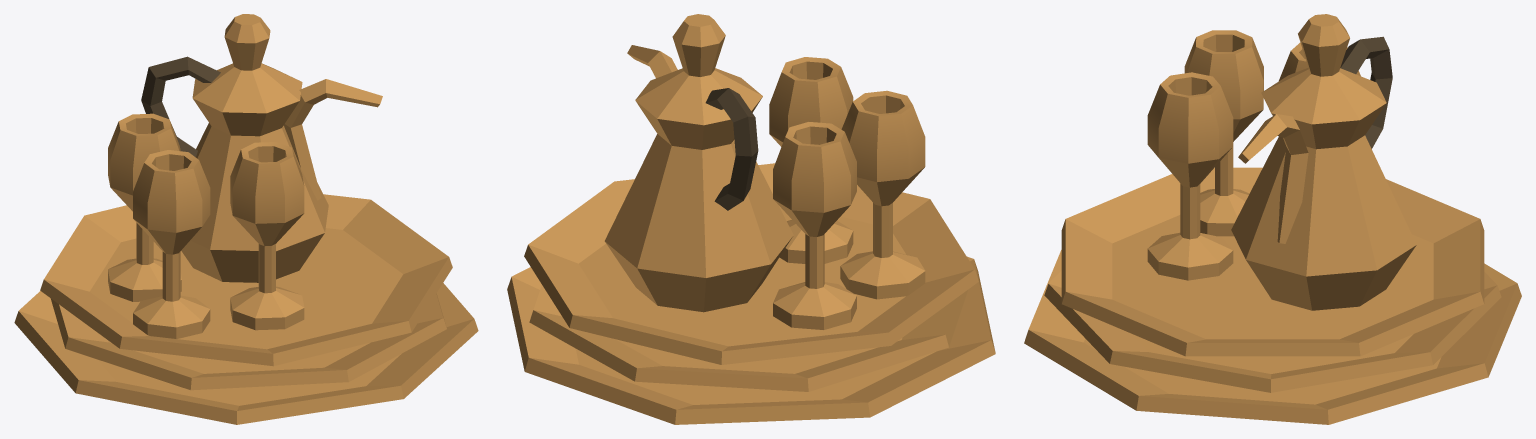
Rendered from SM_Prop_Gold_Plates_Preset_03.fbx.
The picture shows the model from 3 angles, left to right: view 1: azimuth 30°, elevation 25°; view 2: azimuth 150°, elevation 25°; view 3: azimuth 270°, elevation 25°; orthographic projection. The views are drawn at different scales.
Visible parts, largest first — view 1: SM_Prop_Gold_Plates_Preset_03; view 2: SM_Prop_Gold_Plates_Preset_03; view 3: SM_Prop_Gold_Plates_Preset_03.
Boxes of the visible parts, box(x1,y1,x2,y2) form: SM_Prop_Gold_Plates_Preset_03: box(14, 14, 478, 424); SM_Prop_Gold_Plates_Preset_03: box(507, 14, 995, 424); SM_Prop_Gold_Plates_Preset_03: box(1024, 14, 1521, 424).
Bounding box in the file's own units: 71 × 54.03 × 71.
